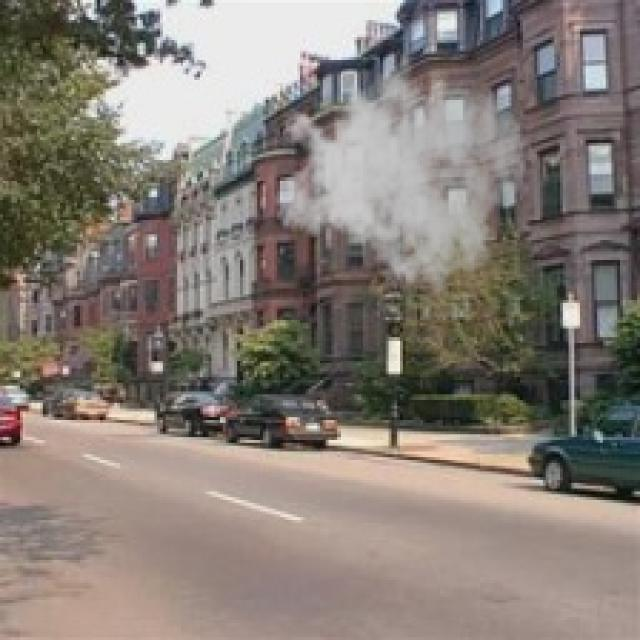smoke: (274, 40, 529, 294)
